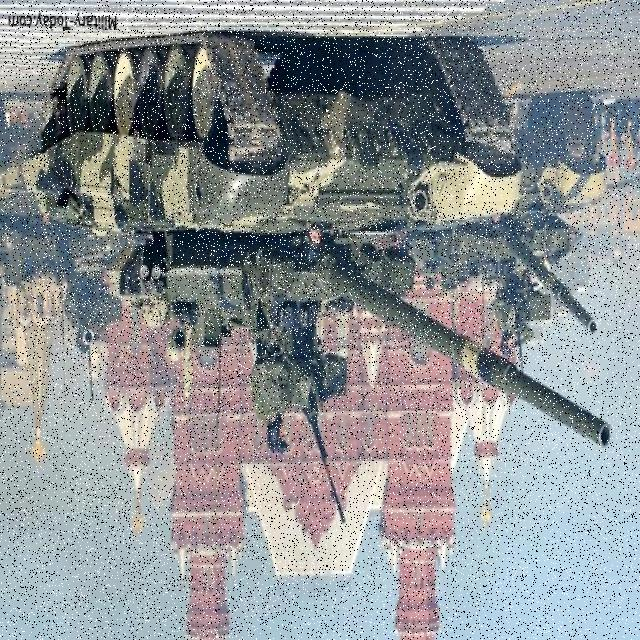MIL_MBT: (20, 29, 515, 410)
